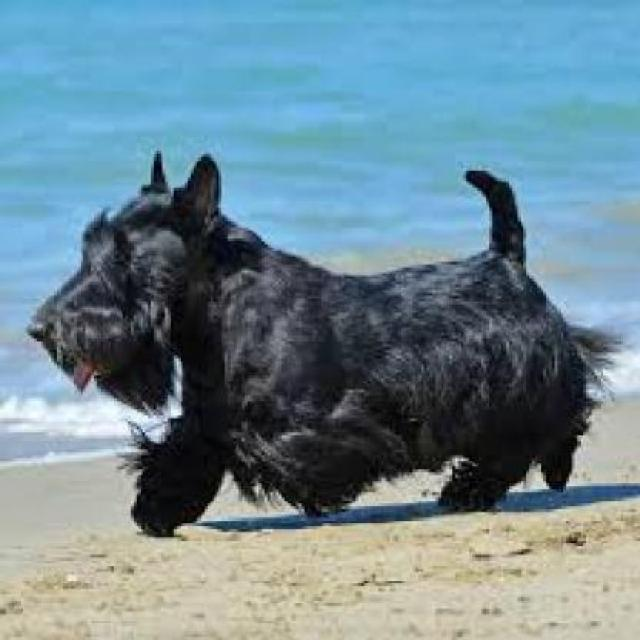animals: (15, 138, 634, 539)
